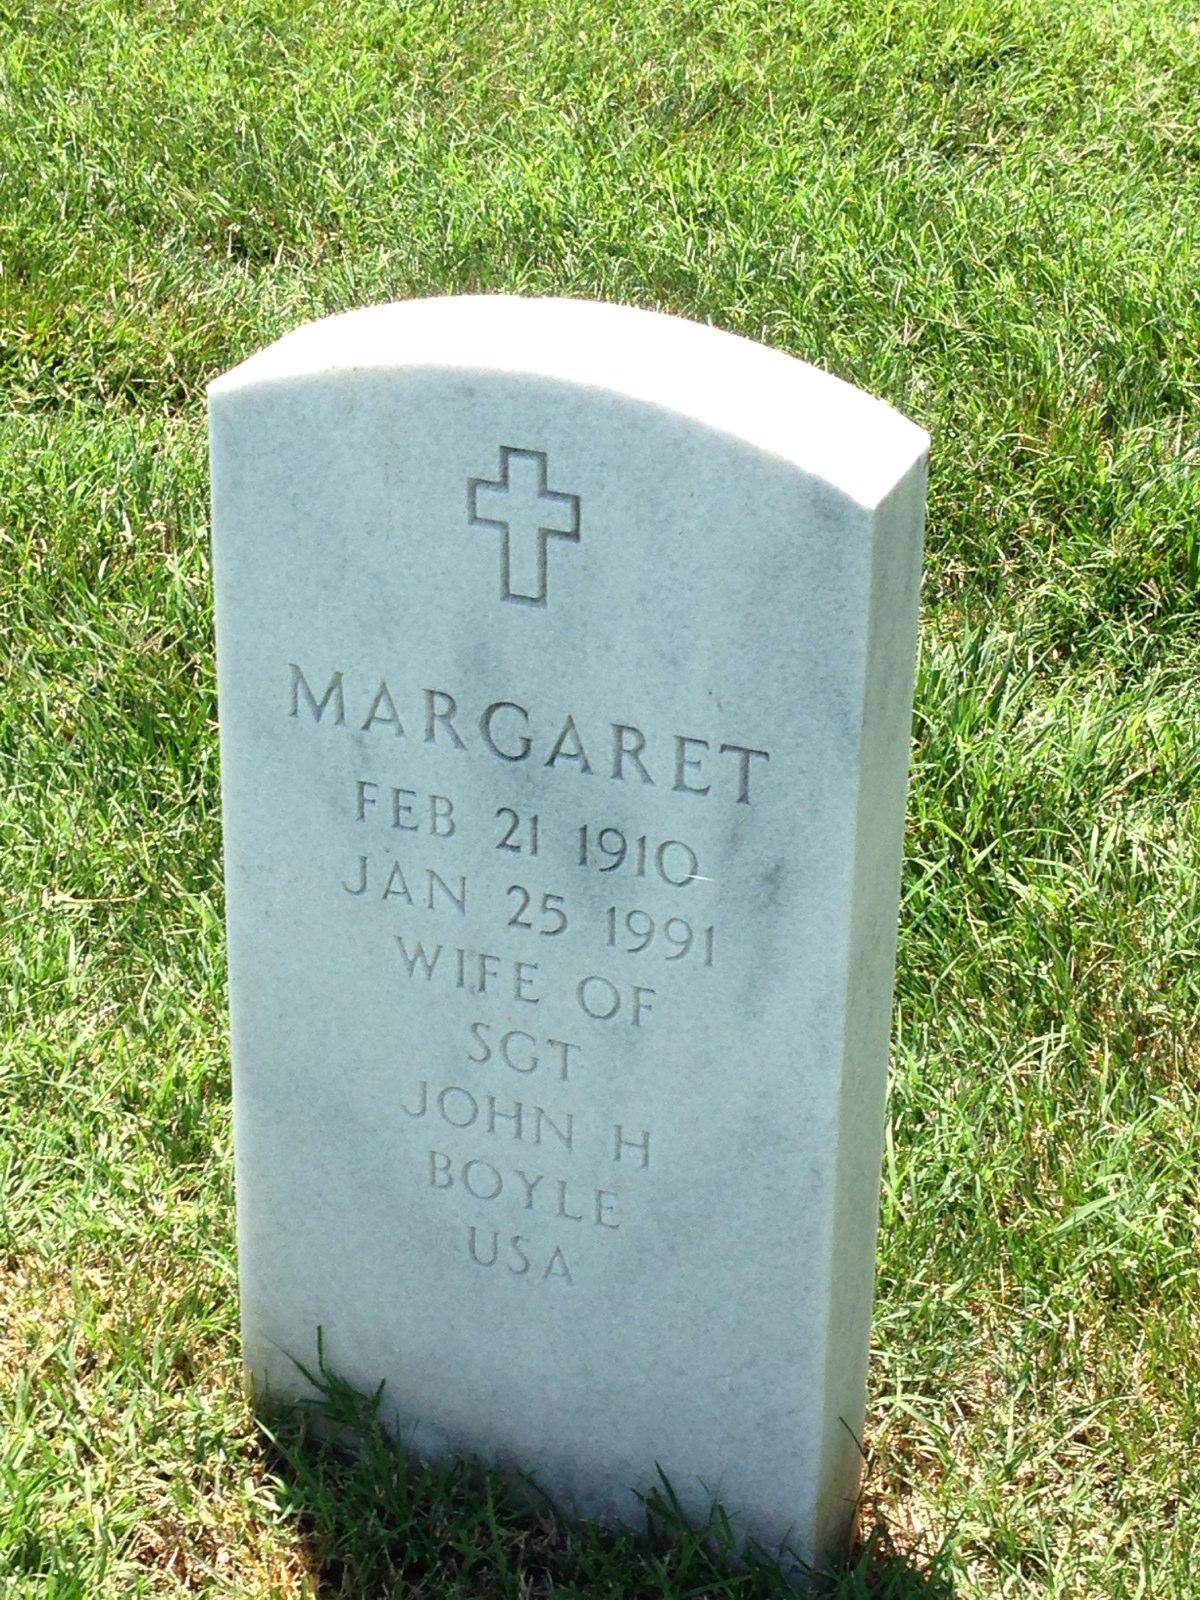military: (200, 292, 937, 1579)
